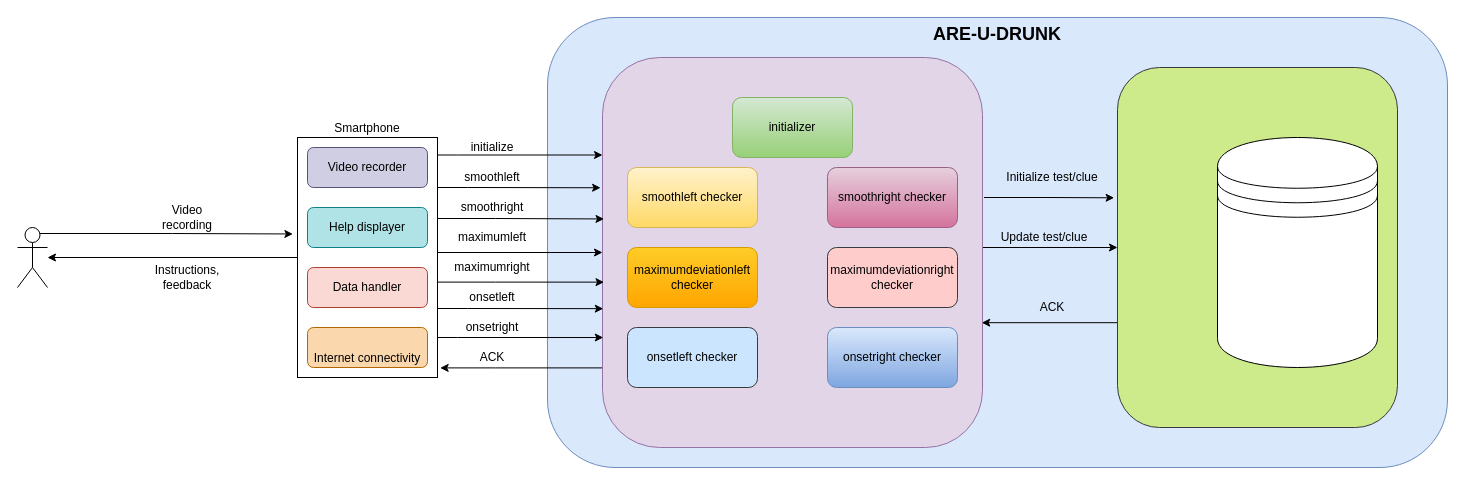
Image size: 1465x485. Some labels were removed from this diagram. Each missing label, with the box of its shape:
DATABASE: (1116, 66, 1398, 428)
Engine/API: (602, 56, 982, 448)
User: (16, 226, 48, 288)
